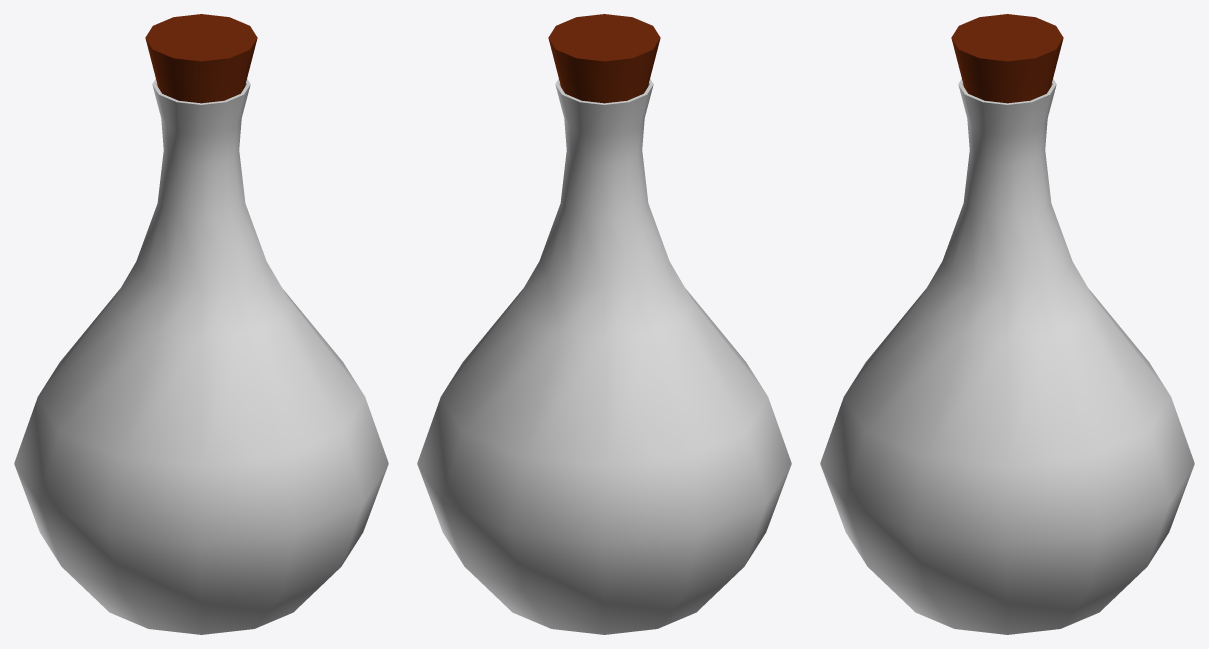
The model's file is flaska3.obj.
3 renders of one model, left to right at view 1: azimuth 30°, elevation 25°; view 2: azimuth 150°, elevation 25°; view 3: azimuth 270°, elevation 25°, orthographic.
Parts seen in each view (by area): view 1: flaska2; view 2: flaska2; view 3: flaska2.
Part boxes in pixels (x1,y1,x2,y2): flaska2: [14, 14, 388, 634]; flaska2: [417, 14, 791, 634]; flaska2: [820, 14, 1194, 634].
Size of the model in its own units: 0.5996 by 0.9751 by 0.5996.
